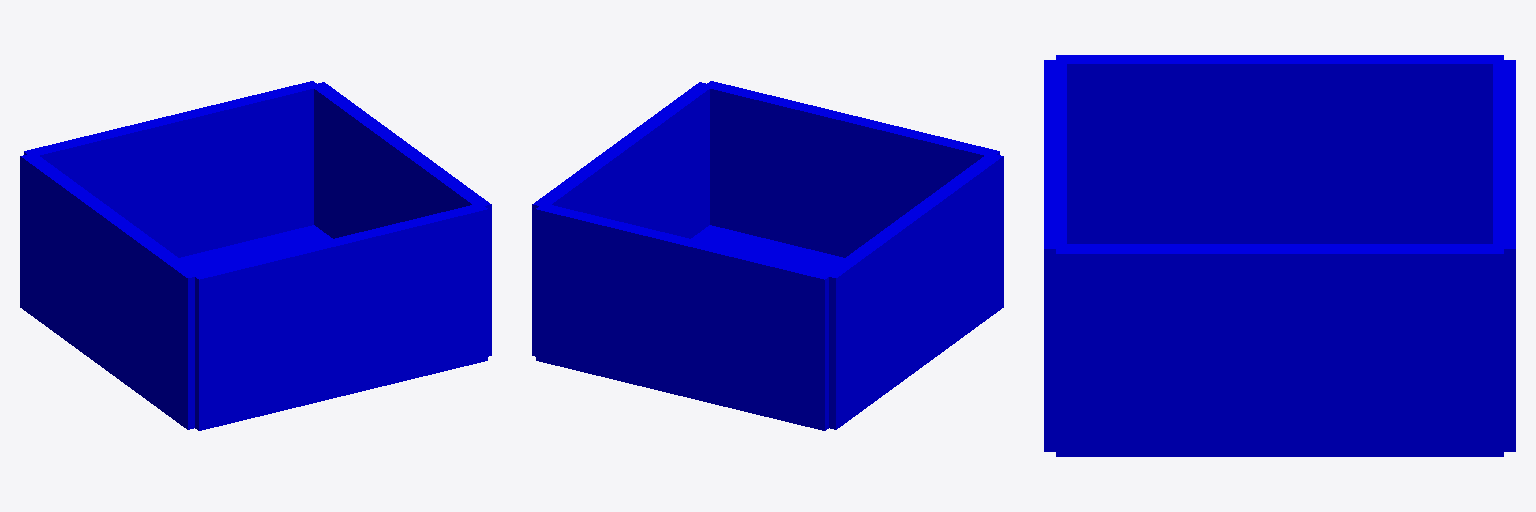
robot.urdf — case:
<?xml version="1.0"?>
<robot name="case">

  <!-- base plate -->
  <link name="base_link">
    <inertial>
      <origin xyz="0 0 0.005" rpy="0 0 0"/>
      <mass value="1.0"/>
      <inertia ixx="0.001" ixy="0.0" ixz="0.0"
               iyy="0.001" iyz="0.0"
               izz="0.001"/>
    </inertial>

    <visual>
      <origin xyz="0 0 0.005" rpy="0 0 0"/>
      <geometry>
        <box size="0.2 0.2 0.01"/>
      </geometry>
      <material name="blue">
        <color rgba="0 0 1 1"/>
      </material>
    </visual>

    <collision>
      <origin xyz="0 0 0.005" rpy="0 0 0"/>
      <geometry>
        <box size="0.2 0.2 0.01"/>
      </geometry>
    </collision>
  </link>

  <!-- front wall -->
  <link name="wall_front">
    <inertial>
      <origin xyz="0 0 0" rpy="0 0 0"/>
      <mass value="0.5"/>
      <inertia ixx="0.0005" ixy="0.0" ixz="0.0"
               iyy="0.0005" iyz="0.0"
               izz="0.0005"/>
    </inertial>

    <visual>
      <origin xyz="0 0 0" rpy="0 0 0"/>
      <geometry>
        <box size="0.2 0.01 0.10"/>
      </geometry>
      <material name="blue">
        <color rgba="0 0 1 1"/>
      </material>
    </visual>

    <collision>
      <origin xyz="0 0 0" rpy="0 0 0"/>
      <geometry>
        <box size="0.2 0.01 0.1"/>
      </geometry>
    </collision>
  </link>

  <!-- back wall -->
  <link name="wall_back">
    <inertial>
      <origin xyz="0 0 0" rpy="0 0 0"/>
      <mass value="0.5"/>
      <inertia ixx="0.0005" ixy="0.0" ixz="0.0"
               iyy="0.0005" iyz="0.0"
               izz="0.0005"/>
    </inertial>

    <visual>
      <origin xyz="0 0 0" rpy="0 0 0"/>
      <geometry>
        <box size="0.20 0.01 0.10"/>
      </geometry>
      <material name="blue">
        <color rgba="0 0 1 1"/>
      </material>
    </visual>

    <collision>
      <origin xyz="0 0 0" rpy="0 0 0"/>
      <geometry>
        <box size="0.20 0.01 0.10"/>
      </geometry>
    </collision>
  </link>

  <!-- left wall -->
  <link name="wall_left">
    <inertial>
      <origin xyz="0 0 0" rpy="0 0 0"/>
      <mass value="0.5"/>
      <inertia ixx="0.0005" ixy="0.0" ixz="0.0"
               iyy="0.0005" iyz="0.0"
               izz="0.0005"/>
    </inertial>

    <visual>
      <origin xyz="0 0 0" rpy="0 0 0"/>
      <geometry>
         <box size="0.01 0.20 0.10"/>
      </geometry>
      <material name="blue">
        <color rgba="0 0 1 1"/>
      </material>
    </visual>

    <collision>
      <origin xyz="0 0 0" rpy="0 0 0"/>
      <geometry>
         <box size="0.01 0.20 0.10"/>
      </geometry>
    </collision>
  </link>

  <!-- right wall -->
  <link name="wall_right">
    <inertial>
      <origin xyz="0 0 0" rpy="0 0 0"/>
      <mass value="0.5"/>
      <inertia ixx="0.0005" ixy="0.0" ixz="0.0"
               iyy="0.0005" iyz="0.0"
               izz="0.0005"/>
    </inertial>

    <visual>
      <origin xyz="0 0 0" rpy="0 0 0"/>
      <geometry>
         <box size="0.01 0.20 0.10"/>
      </geometry>
      <material name="blue">
        <color rgba="0 0 1 1"/>
      </material>
    </visual>

    <collision>
      <origin xyz="0 0 0" rpy="0 0 0"/>
      <geometry>
         <box size="0.01 0.20 0.10"/>
      </geometry>
    </collision>
  </link>

  <joint name="joint_front" type="fixed">
    <parent link="base_link"/>
    <child link="wall_front"/>
    <origin xyz="0 -0.1 0.05" rpy="0 0 0"/>
  </joint>

  <joint name="joint_back" type="fixed">
    <parent link="base_link"/>
    <child link="wall_back"/>
    <origin xyz="0 0.1 0.05" rpy="0 0 0"/>
  </joint>

  <joint name="joint_left" type="fixed">
    <parent link="base_link"/>
    <child link="wall_left"/>
    <origin xyz="-0.1 0 0.05" rpy="0 0 0"/>
  </joint>

  <joint name="joint_right" type="fixed">
    <parent link="base_link"/>
    <child link="wall_right"/>
    <origin xyz="0.1 0 0.05" rpy="0 0 0"/>
  </joint>

</robot>

--- Render facts (derived) ---
3 views of the same robot in one strip: view 1: azimuth 30°, elevation 25°; view 2: azimuth 150°, elevation 25°; view 3: azimuth 270°, elevation 25° (orthographic).
Model case with 5 links and 4 joints (4 fixed), rooted at base_link, posed all joints at 0.
Visible links, largest first — view 1: wall_front, wall_back, wall_left, wall_right, base_link; view 2: wall_back, wall_front, wall_left, wall_right, base_link; view 3: wall_right, wall_left, wall_back, wall_front.
Link boxes in pixels (x1=…): wall_front: x1=191, y1=203, x2=487, y2=430; wall_back: x1=24, y1=81, x2=320, y2=257; wall_left: x1=20, y1=153, x2=200, y2=429; wall_right: x1=312, y1=82, x2=491, y2=356; base_link: x1=180, y1=225, x2=332, y2=271; wall_back: x1=536, y1=203, x2=832, y2=430; wall_front: x1=703, y1=81, x2=999, y2=257; wall_left: x1=823, y1=153, x2=1003, y2=429; wall_right: x1=532, y1=82, x2=712, y2=356; base_link: x1=691, y1=225, x2=843, y2=271; wall_right: x1=1056, y1=244, x2=1503, y2=456; wall_left: x1=1056, y1=55, x2=1503, y2=243; wall_back: x1=1493, y1=60, x2=1515, y2=451; wall_front: x1=1044, y1=60, x2=1066, y2=451.
Size in the robot's own frame: 0.21 by 0.21 by 0.1 metres.
Geometry: primitives only (box / cylinder / sphere), no mesh files.
